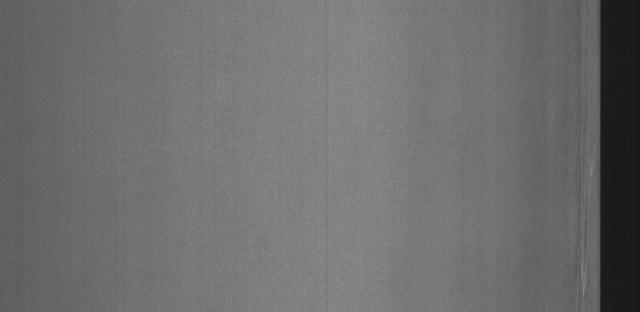silk_spot: (550, 152, 596, 298)
